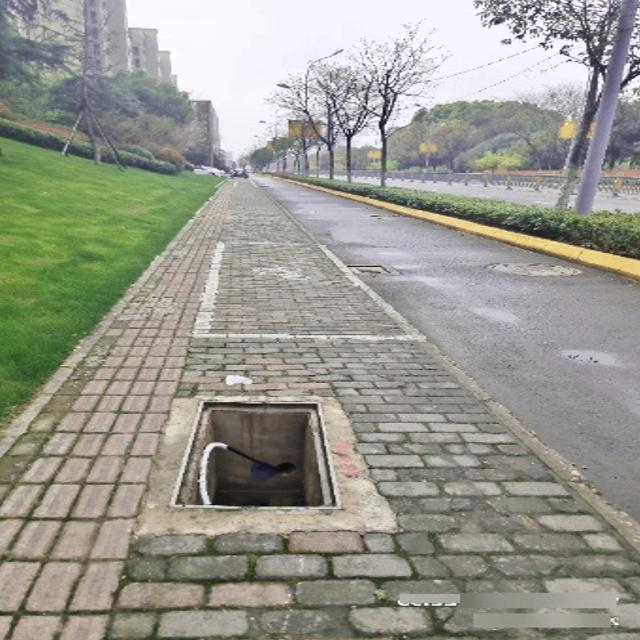lose: (167, 398, 342, 507)
